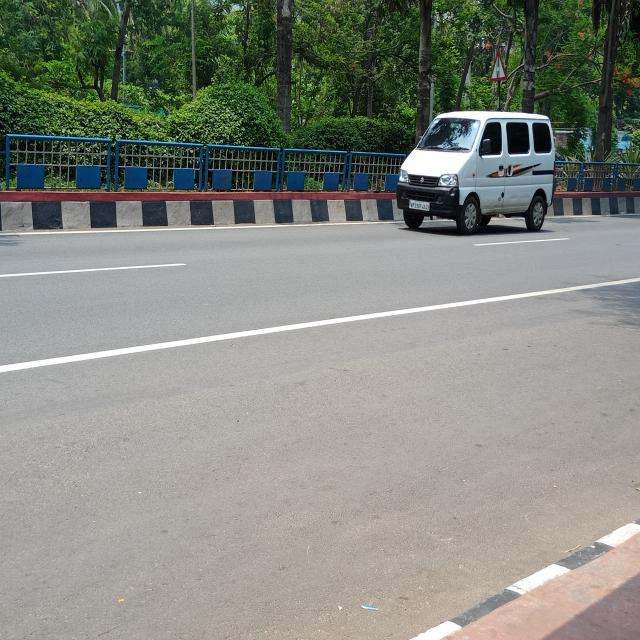car: (394, 103, 575, 248)
